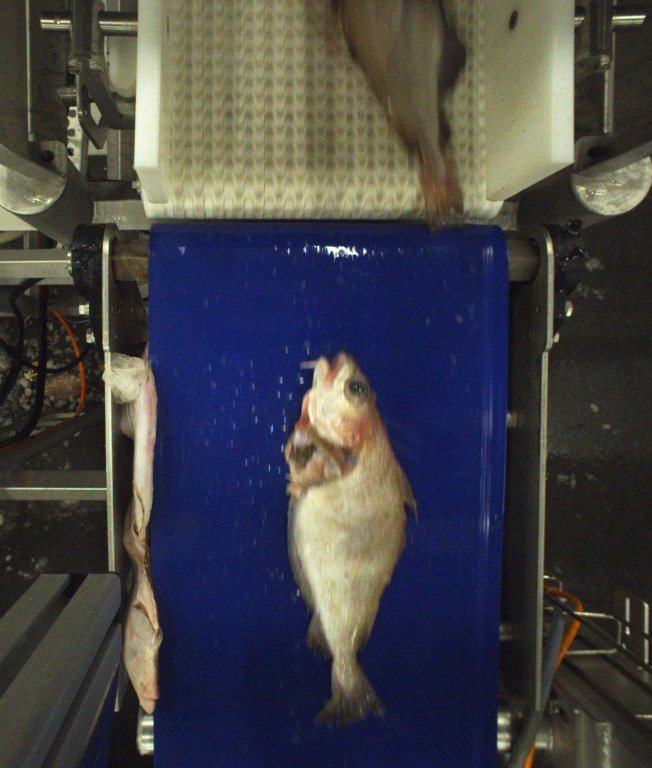BIB: (338, 2, 463, 238)
